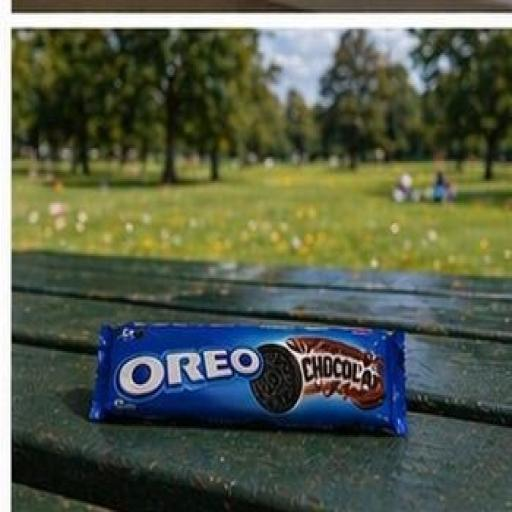oreo: (73, 272, 448, 475)
